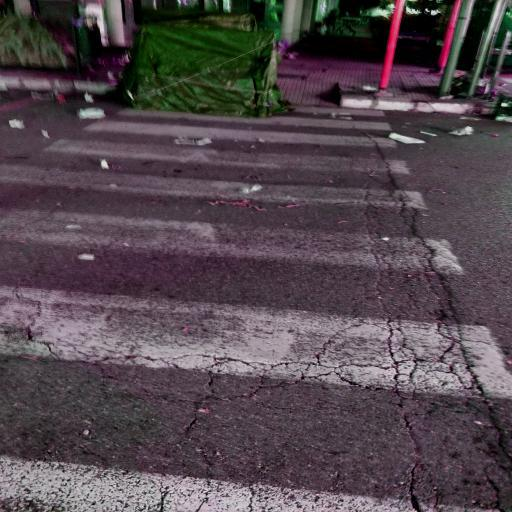crosswalk: (45, 116, 419, 182)
